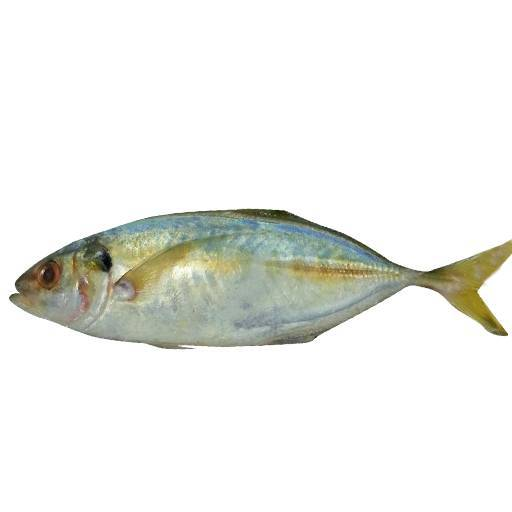Ikan Selar: (11, 213, 508, 344)
